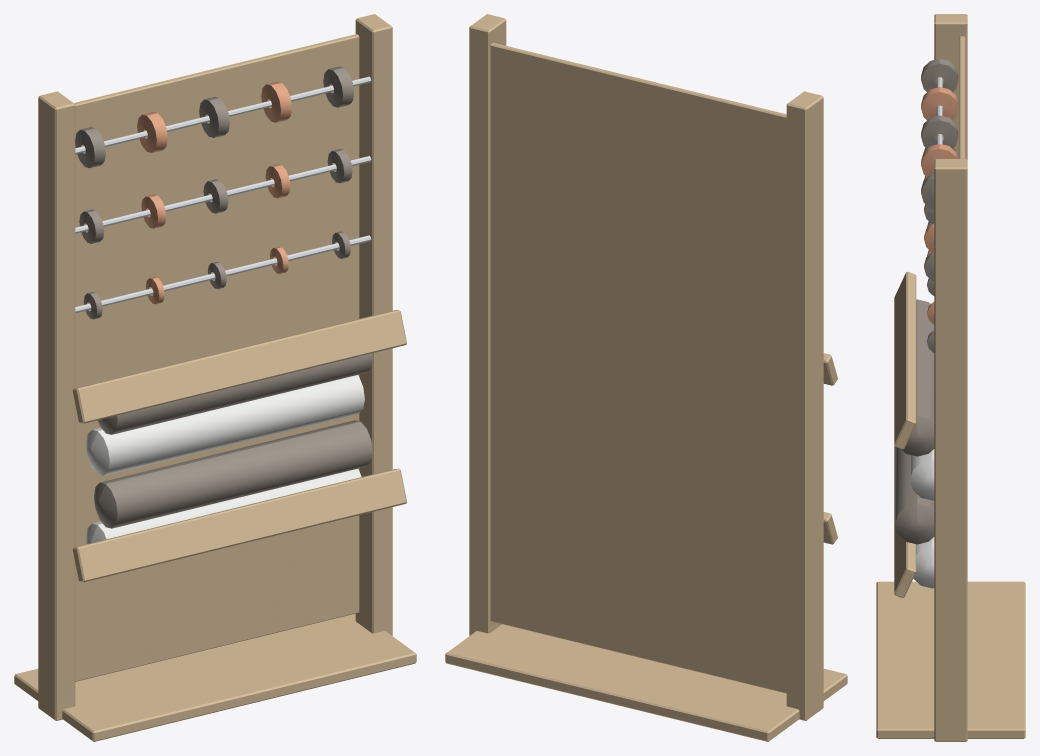
Rendered from garden-centre-and-florist-ribbon-and-wrap-rack-69613fe7__17765.glb.
3 views of the same model, side by side, from view 1: azimuth 30°, elevation 25°; view 2: azimuth 150°, elevation 25°; view 3: azimuth 270°, elevation 25° (orthographic). The views are drawn at different scales.
Parts seen in each view (by area): view 1: ribbon-and-wrap-rack; view 2: ribbon-and-wrap-rack; view 3: ribbon-and-wrap-rack.
Boxes of the visible parts, x1=… form: ribbon-and-wrap-rack: x1=14, y1=14, x2=416, y2=741; ribbon-and-wrap-rack: x1=445, y1=14, x2=847, y2=741; ribbon-and-wrap-rack: x1=876, y1=14, x2=1025, y2=741.
Size of the model in its own units: 0.98 by 1.7 by 0.3999.
